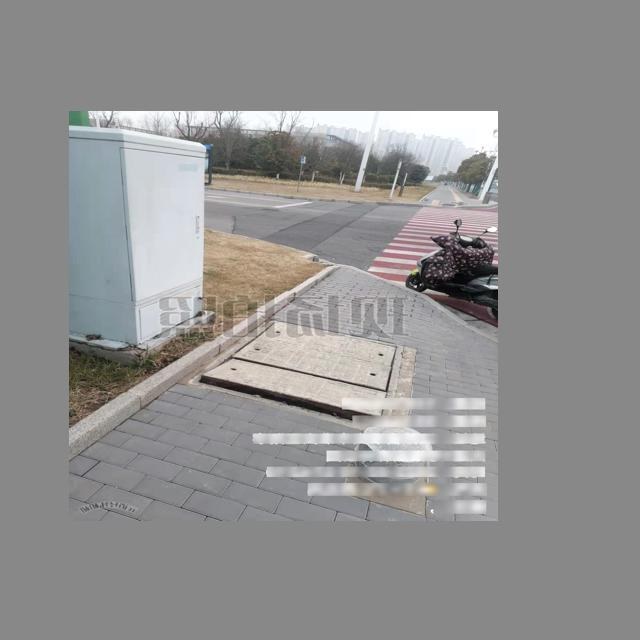uncovered: (195, 321, 404, 423)
